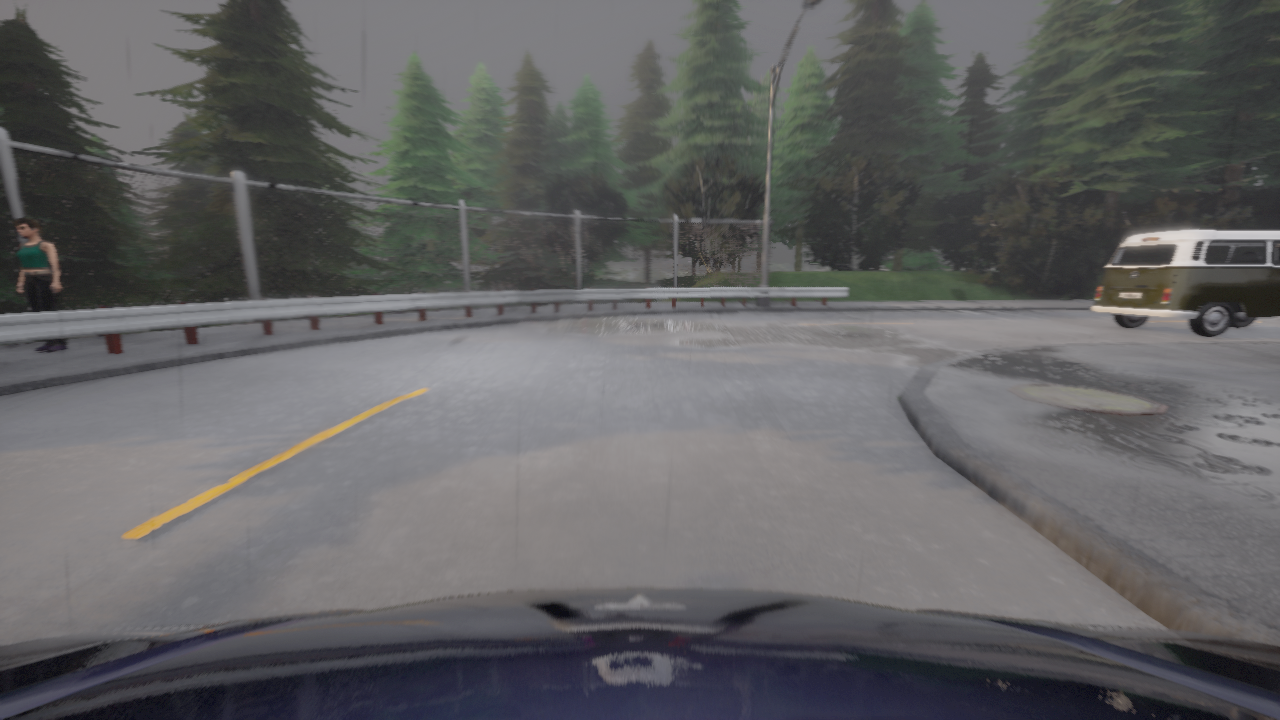cyclist: (0, 588, 1279, 719), (1091, 229, 1279, 337)
pedestrian: (12, 218, 68, 351)
